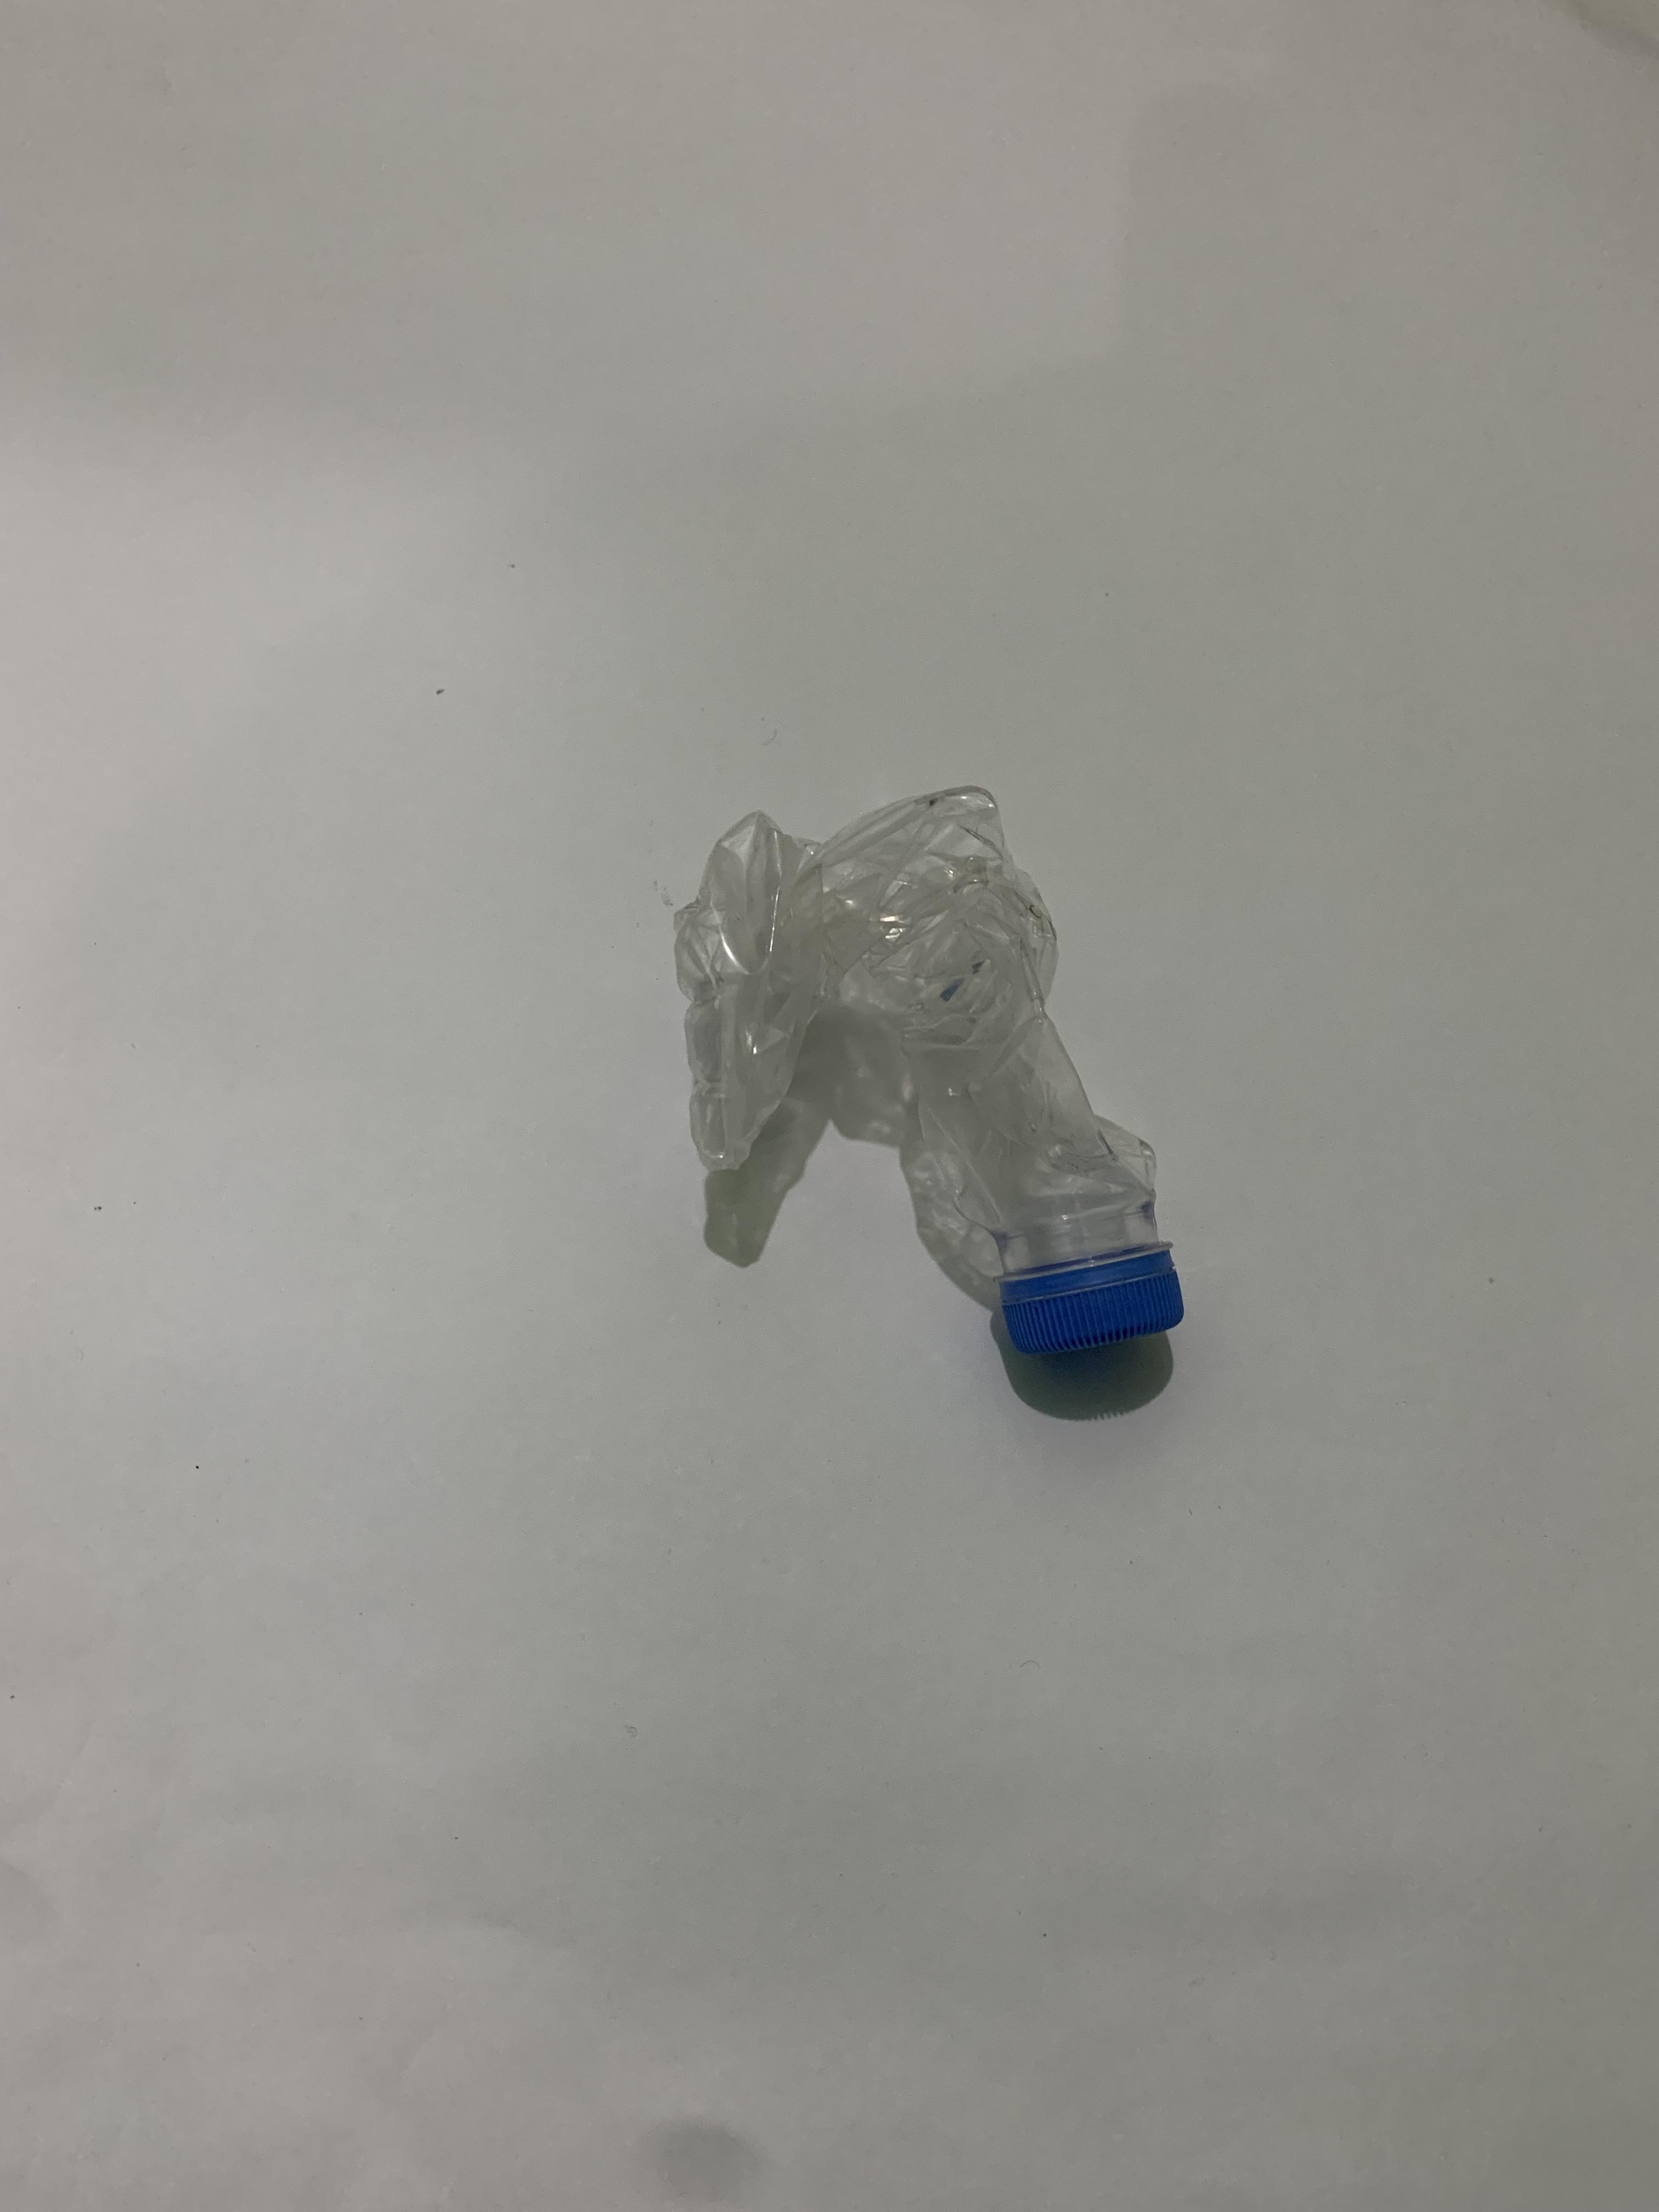bottle: (0, 773, 371, 1378)
